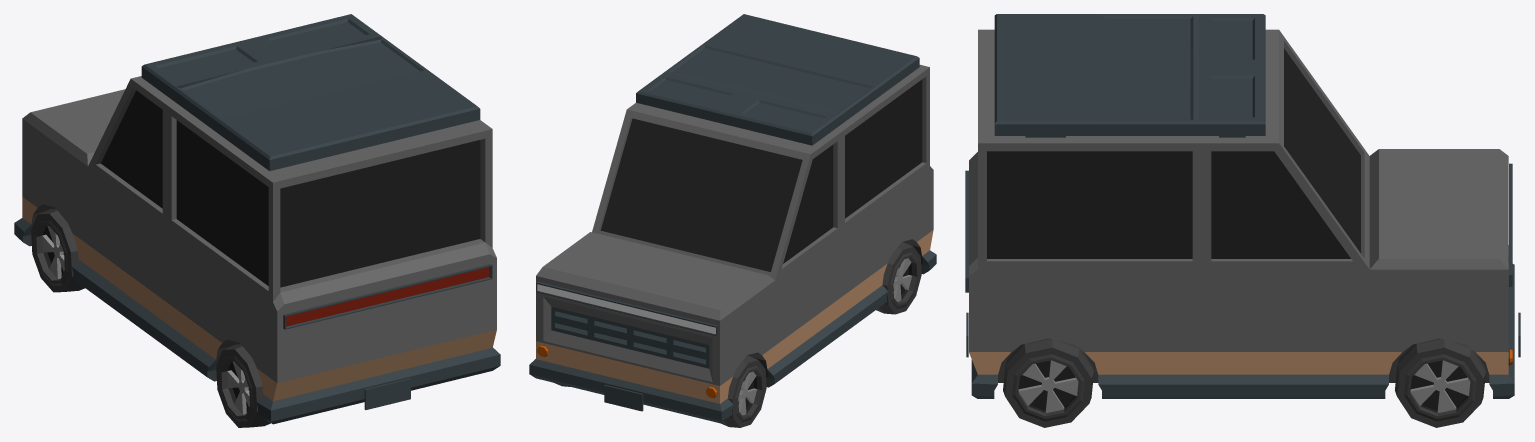
The model's file is car2_1.glb.
3 views of the same model, side by side, from view 1: azimuth 30°, elevation 25°; view 2: azimuth 150°, elevation 25°; view 3: azimuth 270°, elevation 25° (orthographic). The views are drawn at different scales.
Parts seen in each view (by area): view 1: SwiftoV2; view 2: SwiftoV2; view 3: SwiftoV2.
Boxes of the visible parts, x1,y1,x2,y2 form: SwiftoV2: [14, 14, 500, 427]; SwiftoV2: [529, 14, 936, 427]; SwiftoV2: [965, 14, 1520, 427].
Bounding box in the file's own units: 1.59 × 1.89 × 3.1.
Materials: 1 (1 with a texture image).
